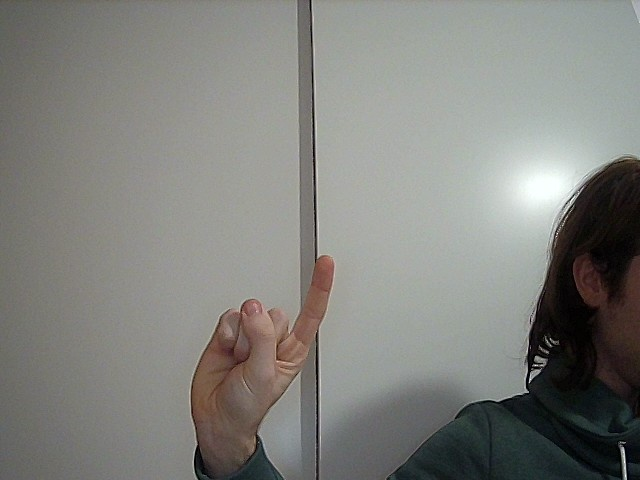z: (184, 248, 354, 437)
